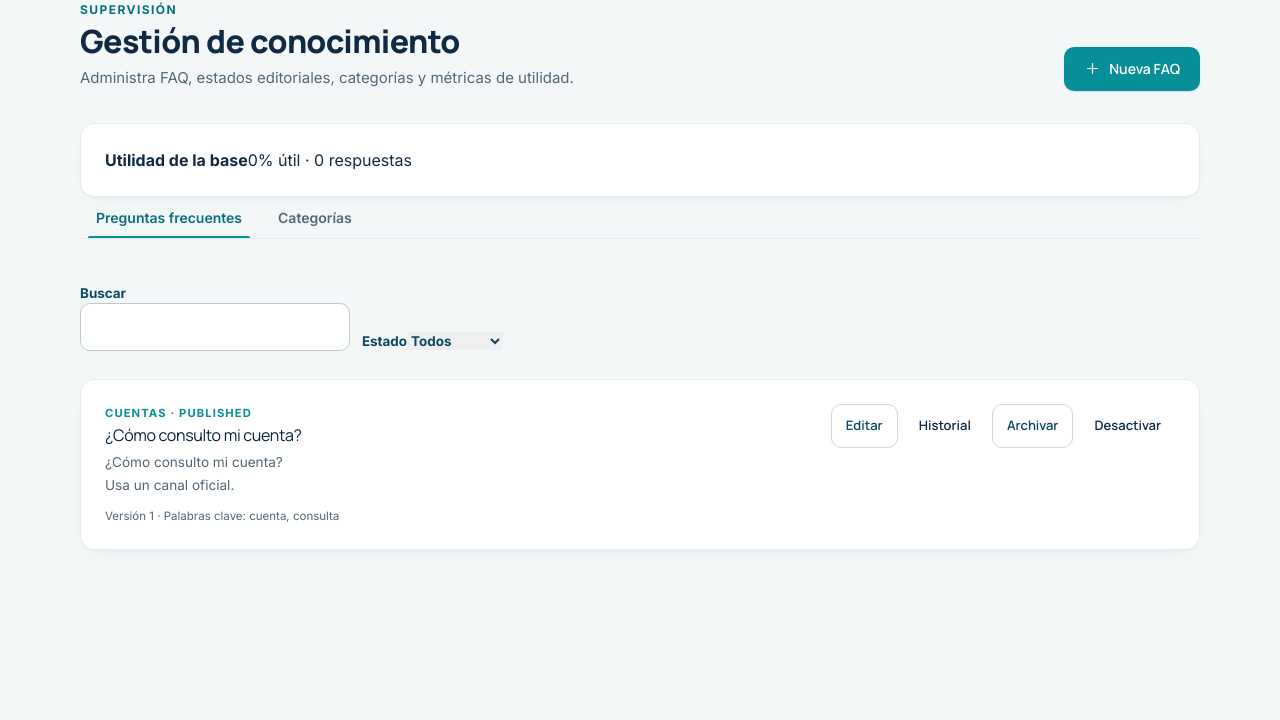
gestión de conocimiento › renders active records and requires confirmation before deactivation
Check: the heading "¿Cómo consulto mi cuenta?" is shown, box [105,424,302,446]
Click the button "Desactivar": {"x": 1128, "y": 426} [1080,404,1175,448]
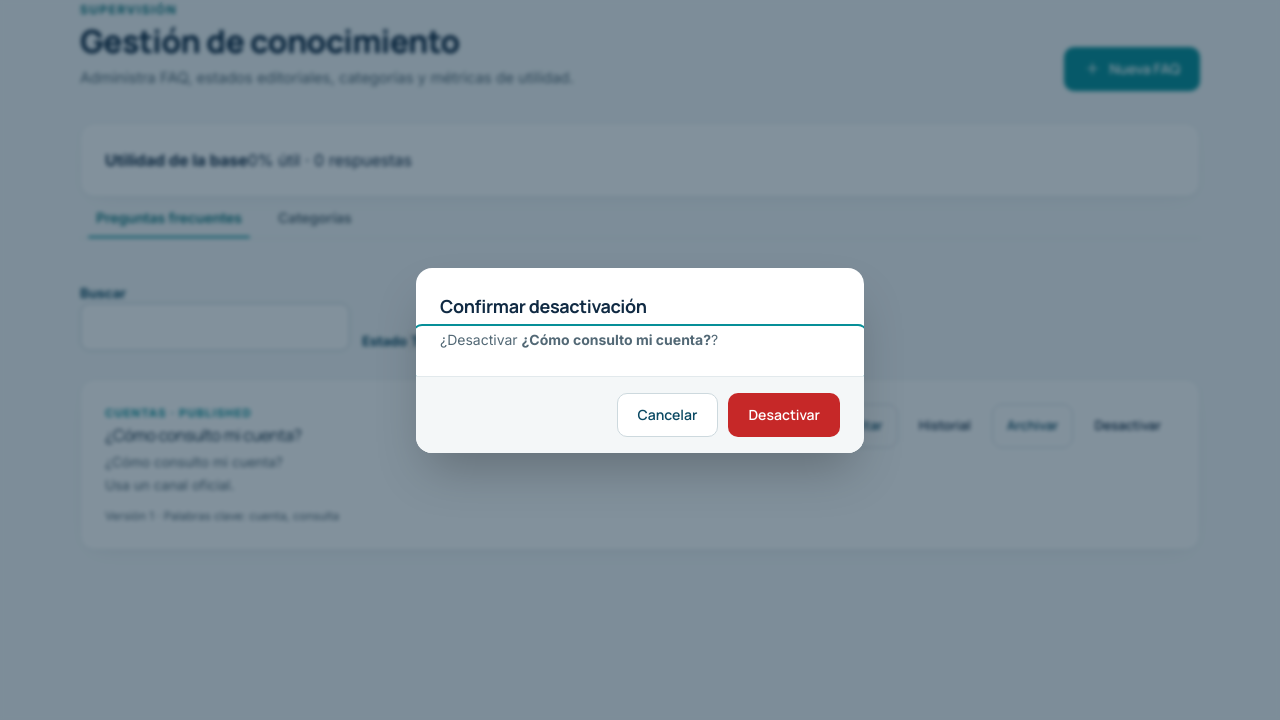
Check: the dialog "Confirmar desactivación" is shown, box [416,268,864,452]
Click the button "Desactivar": {"x": 784, "y": 414} [728,392,840,436]
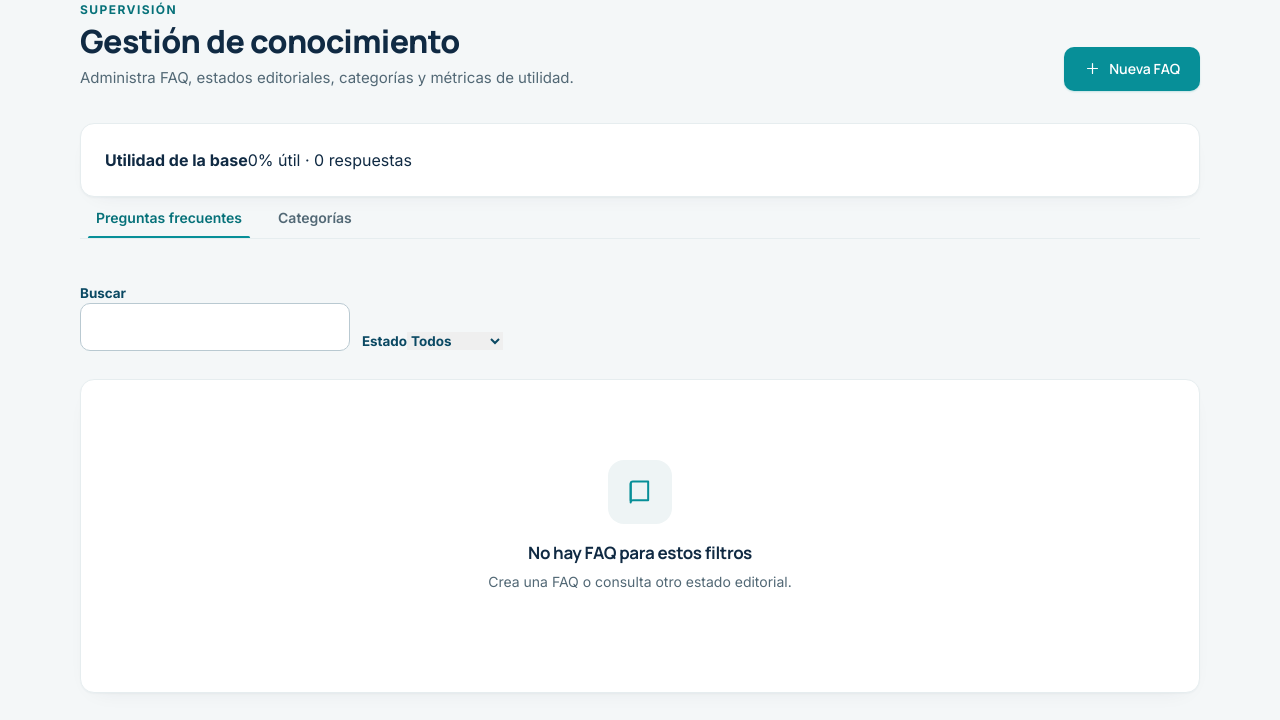
Check: the heading "¿Cómo consulto mi cuenta?" is gone
